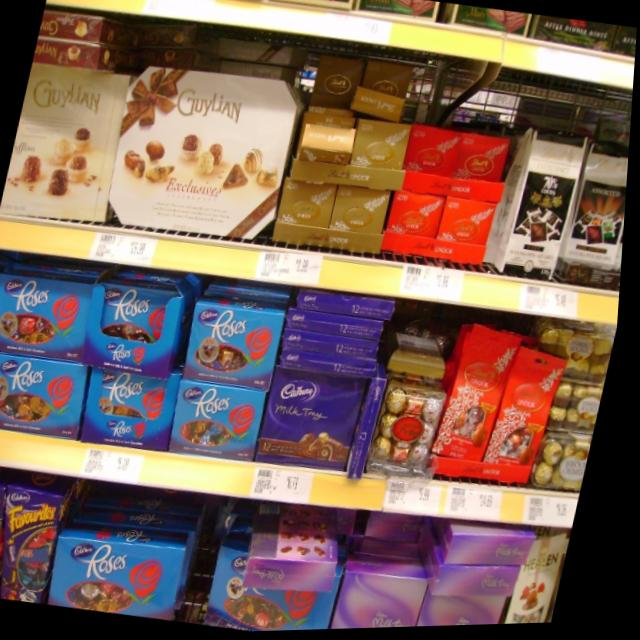q256: (46, 521, 204, 626), (101, 275, 204, 374), (0, 268, 107, 362), (166, 377, 276, 467), (185, 295, 292, 383), (0, 344, 99, 439), (83, 360, 184, 453)
q52: (501, 129, 593, 289)
